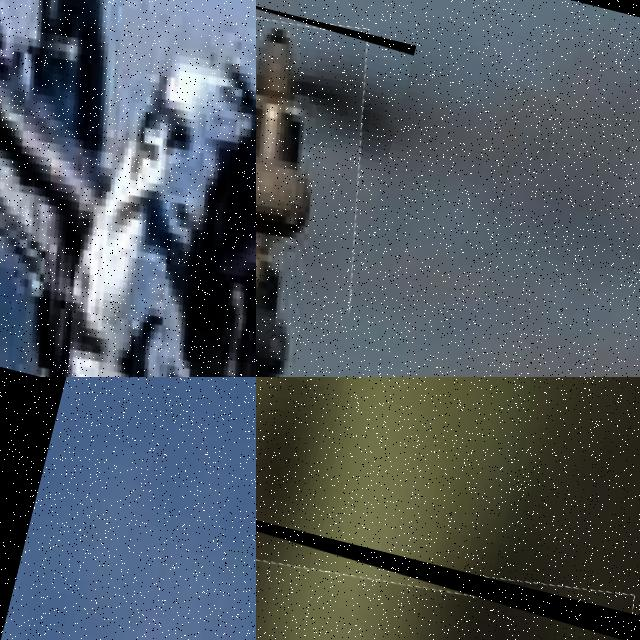drone: (0, 0, 256, 377), (256, 462, 640, 640), (256, 0, 415, 377)
